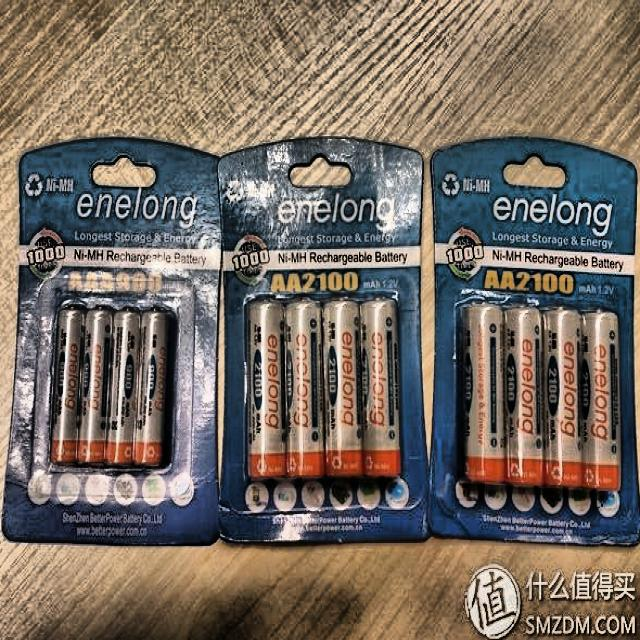Non-Valuable Waste - Batteries: (51, 307, 169, 466), (463, 304, 505, 481), (323, 299, 364, 477), (360, 299, 400, 477), (247, 299, 286, 478), (581, 311, 619, 490), (543, 309, 581, 486), (285, 301, 323, 477), (505, 307, 542, 485)
